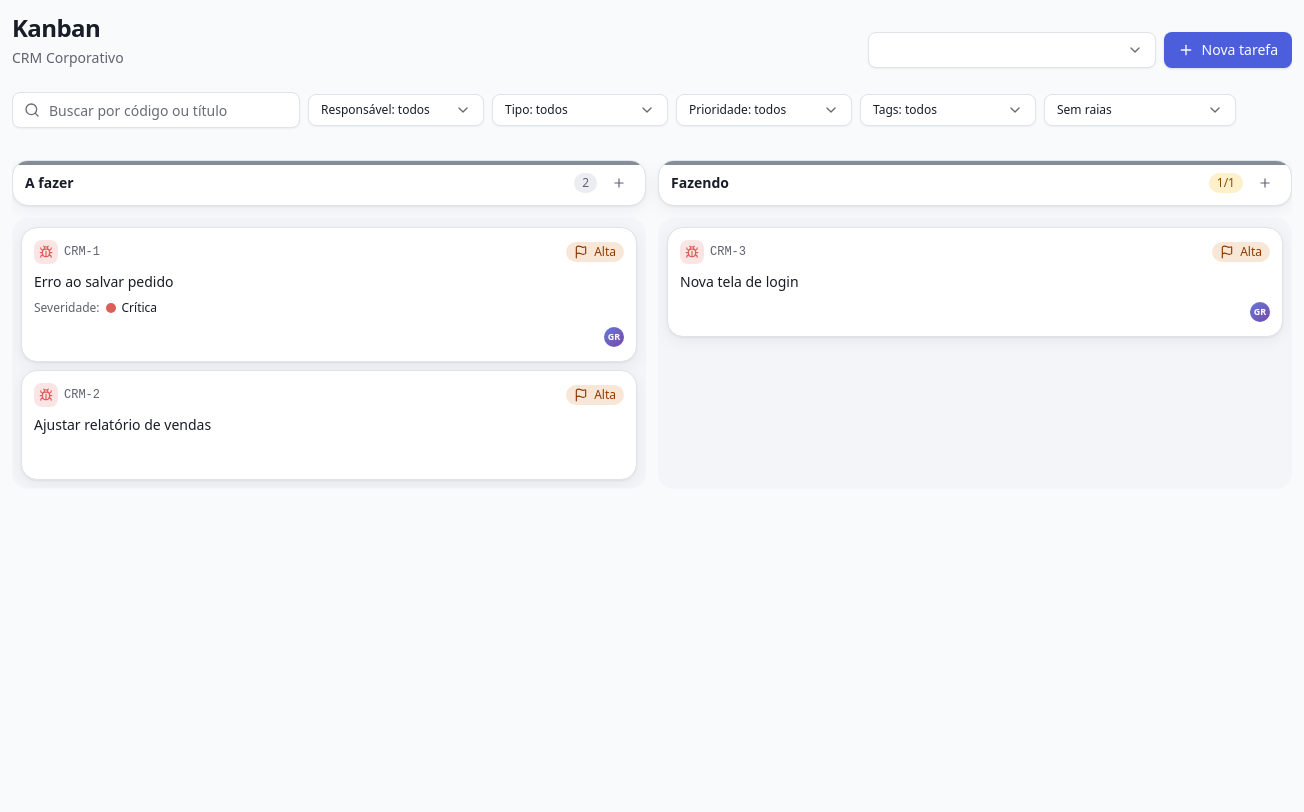
Test: KanbanPage › raias por responsável agrupam os cards
Expected: the text "Erro ao salvar pedido" is shown, top-left (34, 272), bottom-right (174, 291)
Click the dropdown named "Agrupar em raias": (1140, 110) top-left (1044, 94), bottom-right (1236, 126)
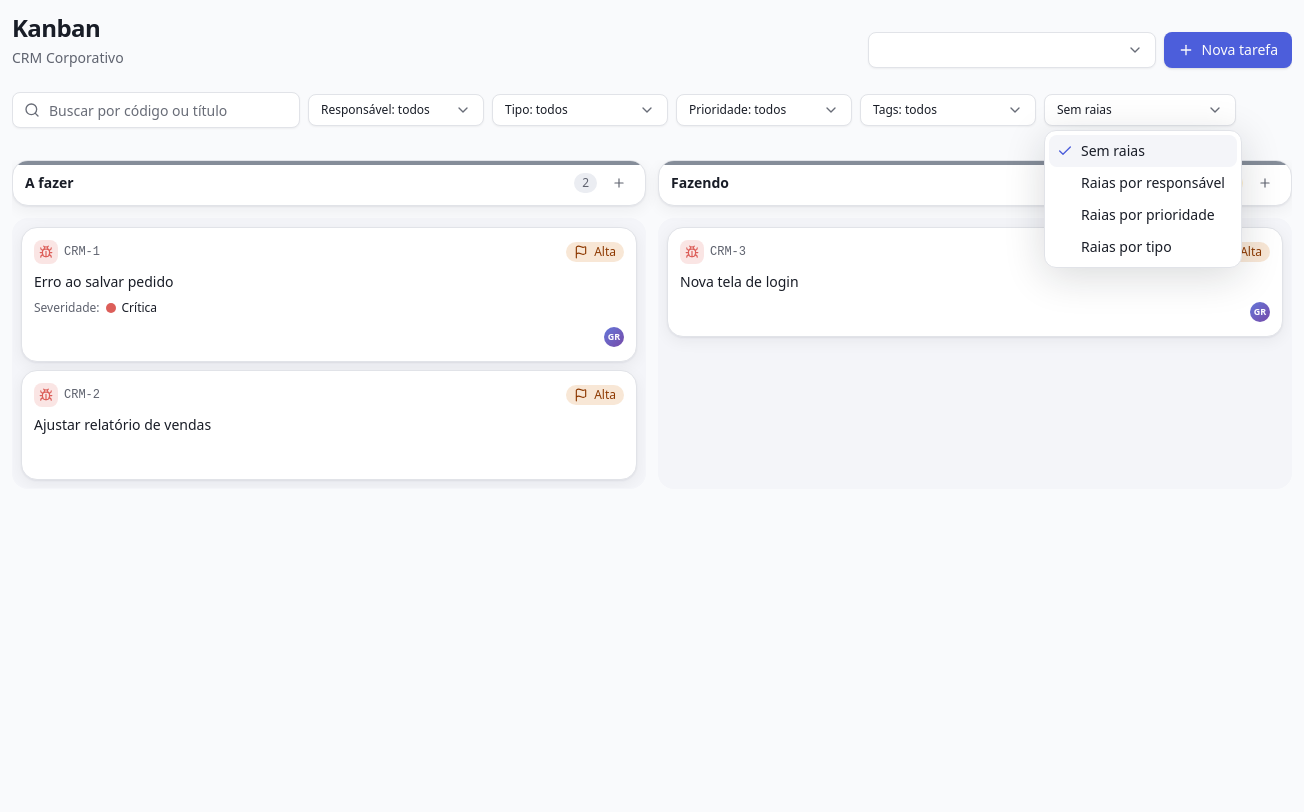
Click the option "Raias por responsável": (1153, 182) top-left (1081, 173), bottom-right (1225, 192)
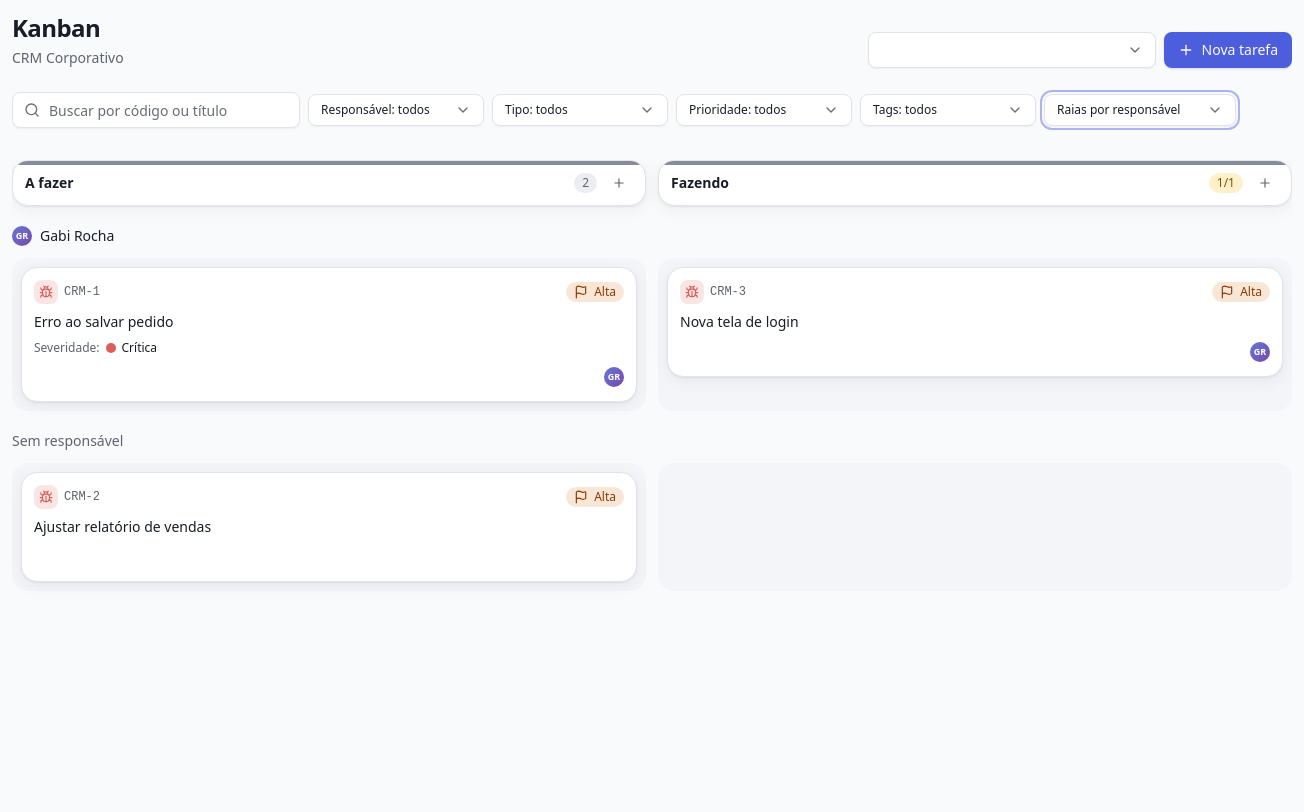
Now the text "Nova tela de login" is shown, box top-left (680, 312), bottom-right (799, 331)
Now the text "Ajustar relatório de vendas" is shown, box top-left (34, 517), bottom-right (211, 536)
Now the heading "Sem responsável" is shown, box top-left (12, 431), bottom-right (123, 450)
